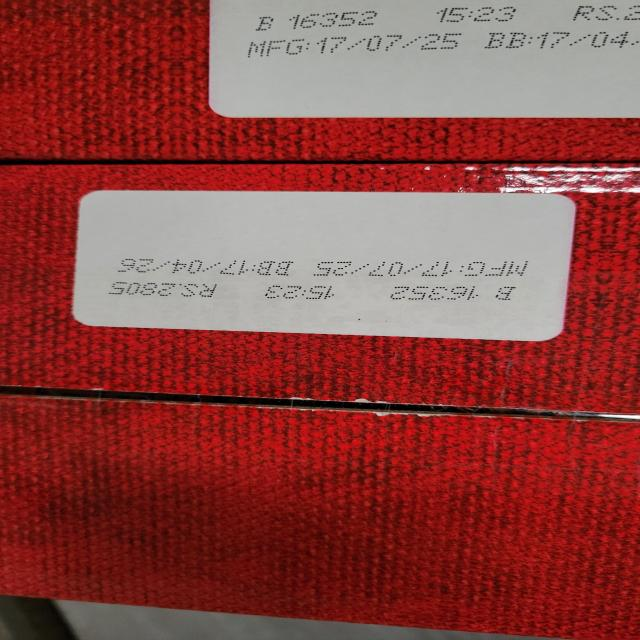BB: (118, 255, 297, 278)
Batch: (252, 7, 389, 32), (391, 282, 524, 306)
MFG: (242, 32, 470, 62), (310, 256, 534, 278)
RS: (108, 281, 221, 303)
TimeStamp: (437, 4, 543, 27), (263, 280, 342, 302)
